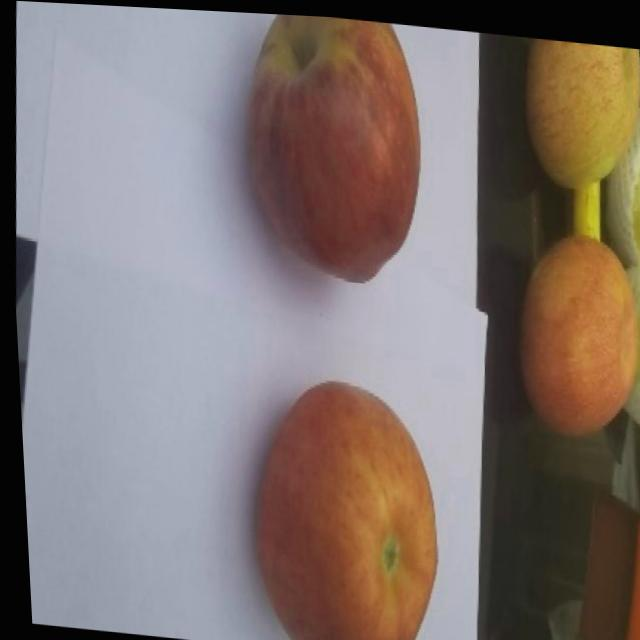Apple: (237, 368, 444, 640), (232, 9, 432, 285), (506, 222, 640, 437), (515, 31, 640, 189)
